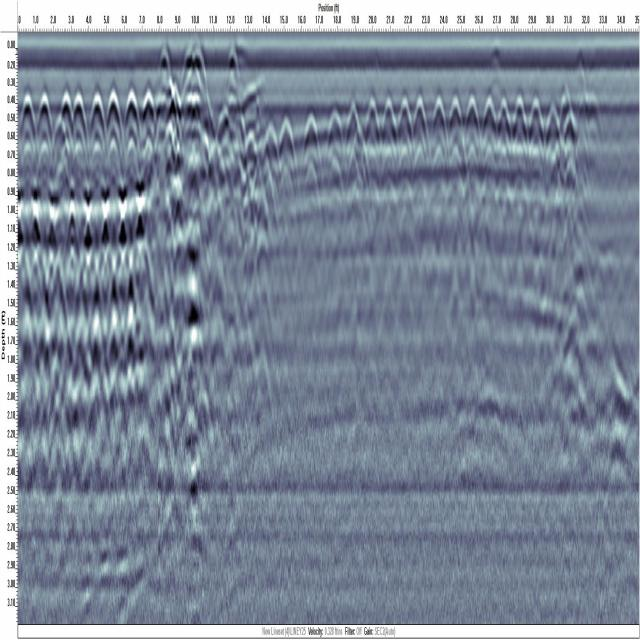hyperbola: (299, 104, 326, 186), (276, 114, 299, 191), (88, 84, 108, 167), (17, 85, 39, 156), (462, 88, 484, 156), (428, 89, 448, 163), (121, 81, 140, 157), (36, 88, 56, 159), (526, 93, 546, 163), (496, 89, 514, 152)
